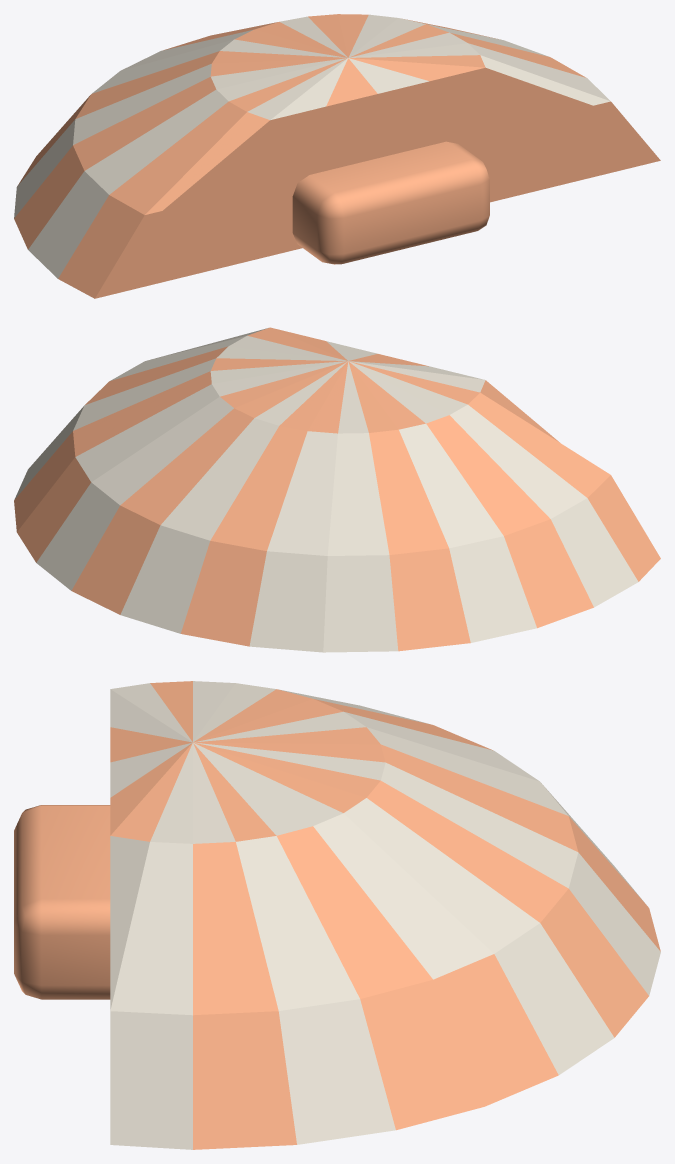
Rendered from Seashell.fbx.
The picture shows the model from 3 angles, top to bottom: view 1: azimuth 30°, elevation 25°; view 2: azimuth 150°, elevation 25°; view 3: azimuth 270°, elevation 25°; orthographic projection. The views are drawn at different scales.
Parts seen in each view (by area): view 1: Seashell; view 2: Seashell; view 3: Seashell.
Boxes of the visible parts, <box> form: Seashell: <box>14,14,660,298</box>; Seashell: <box>14,327,660,652</box>; Seashell: <box>14,681,660,1149</box>.
Bounding box in the file's own units: 1.7 × 0.42 × 1.17.
Materials: 1 (1 with a texture image).
